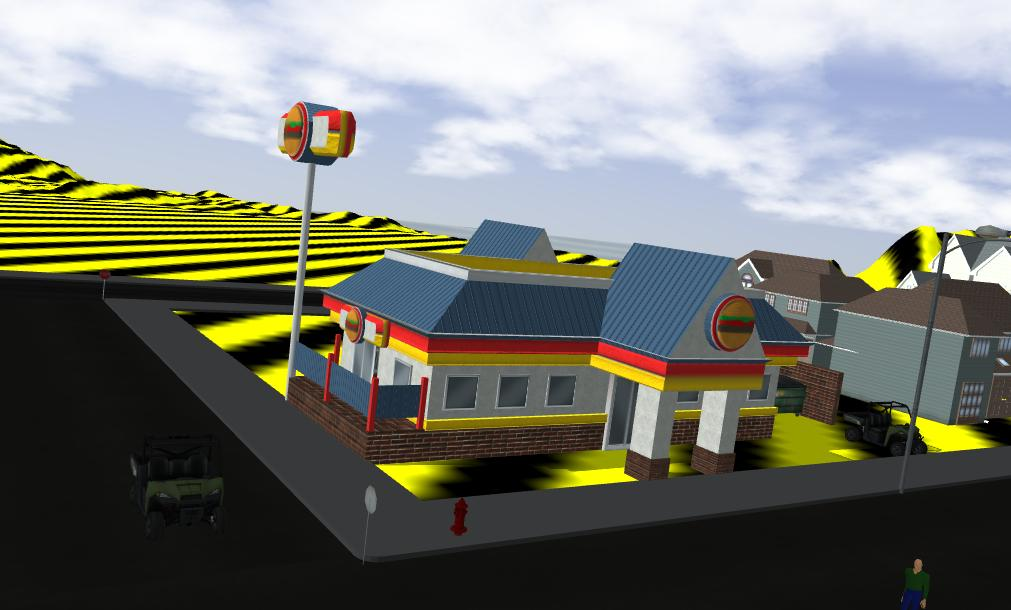car: (120, 433, 232, 542)
fire hydrant: (449, 493, 478, 549)
human: (896, 555, 931, 610)
street light: (905, 220, 1006, 512)
street sign: (359, 486, 379, 562)
